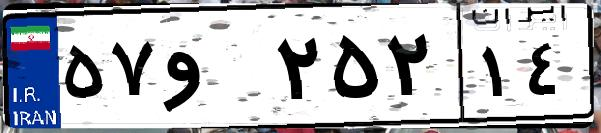1: (475, 38, 525, 113)
2: (270, 28, 330, 110), (385, 28, 445, 110)
4: (525, 38, 570, 115)
5: (330, 28, 385, 110), (57, 26, 110, 100)
7: (110, 28, 158, 98)
و: (158, 20, 270, 120)
